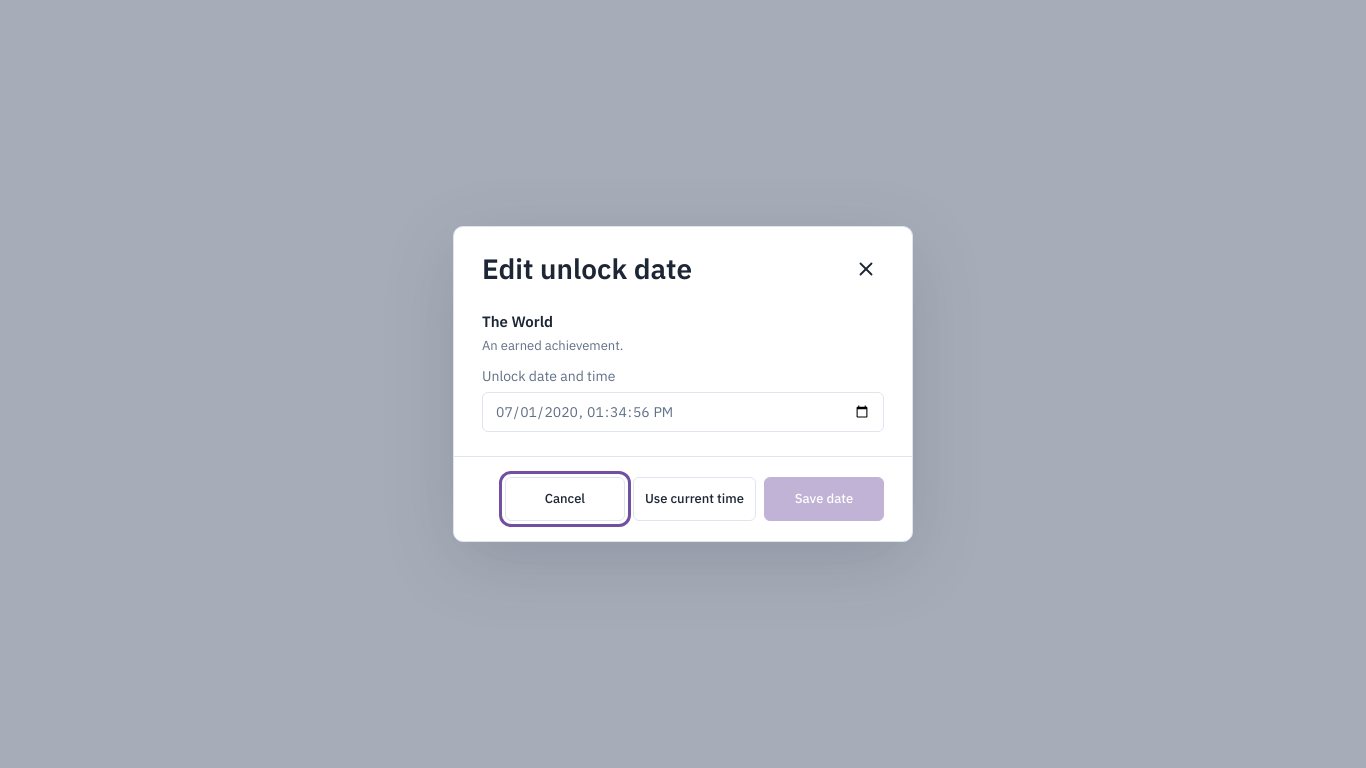
Test case: blocks incomplete, future and nonexistent wall times without changing the saved date
Step 1. Clear the field named "Unlock date for The World" → (683, 412), box [482,392,884,432]
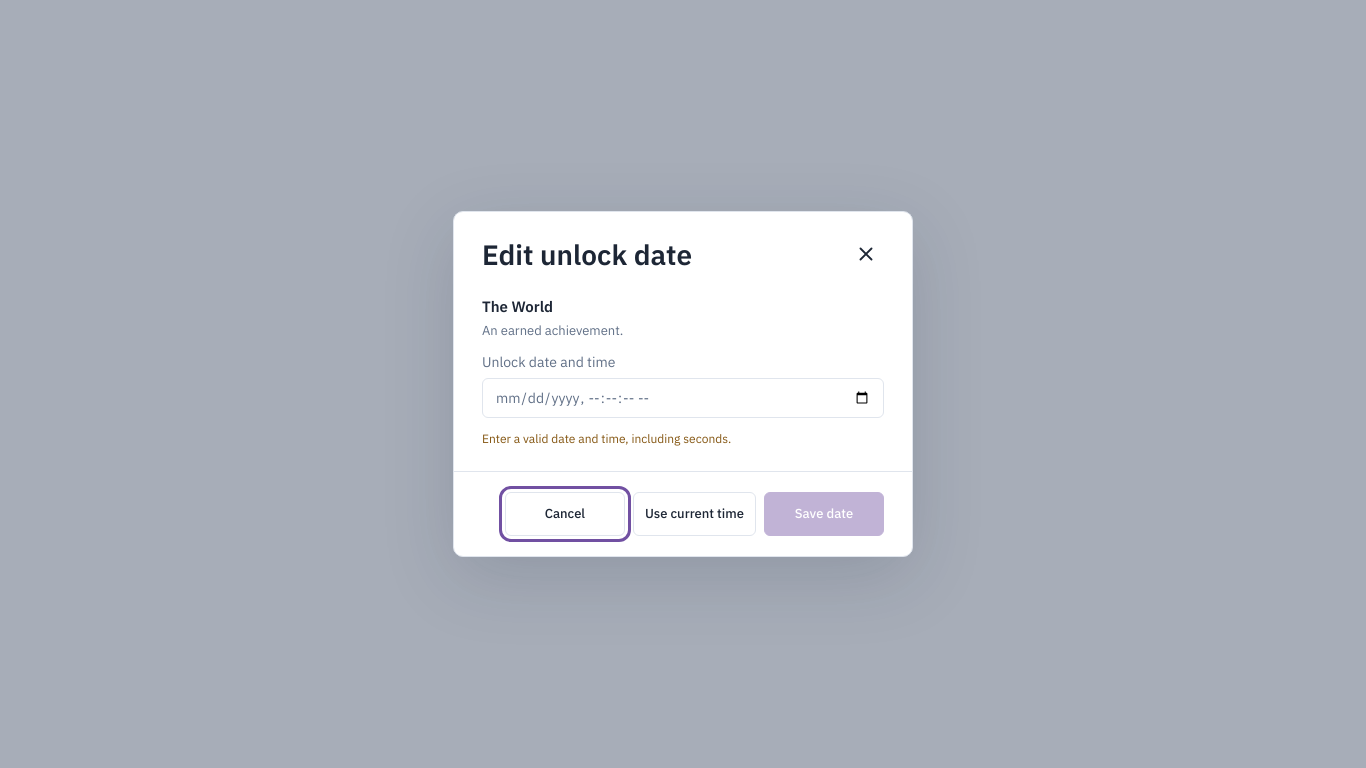
Check: the button "Save date" is disabled, box [764,492,884,536]
Check: the message shows "valid date and time", box [482,430,731,446]
Step 2. Type "2040-08-02T13:14:15" into the field named "Unlock date for The World" → (683, 398), box [482,378,884,418]
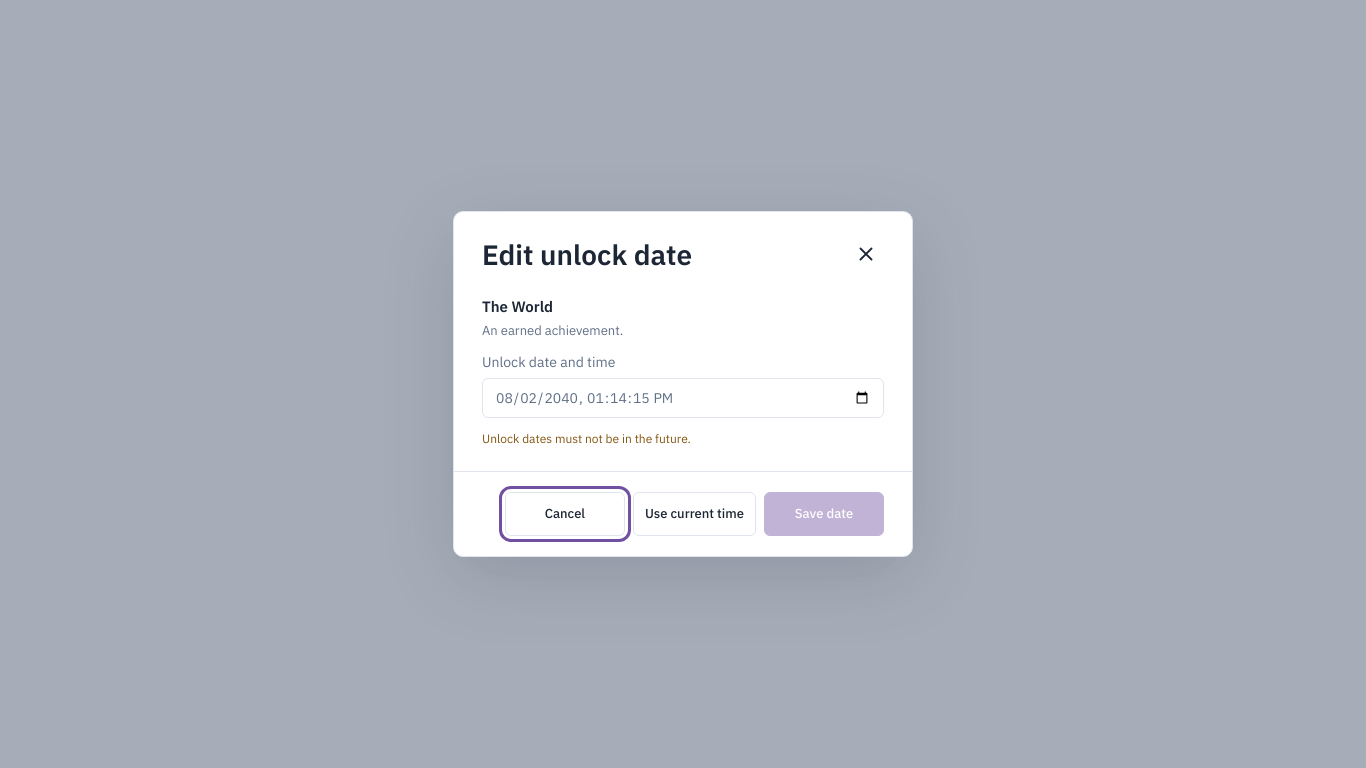
Check: the button "Save date" is disabled, box [764,492,884,536]
Check: the message shows "future", box [482,430,691,446]
Step 3. Replace the text in the field named "Unlock date for The World" with "2026-03-29T01:30:00" → (683, 398), box [482,378,884,418]
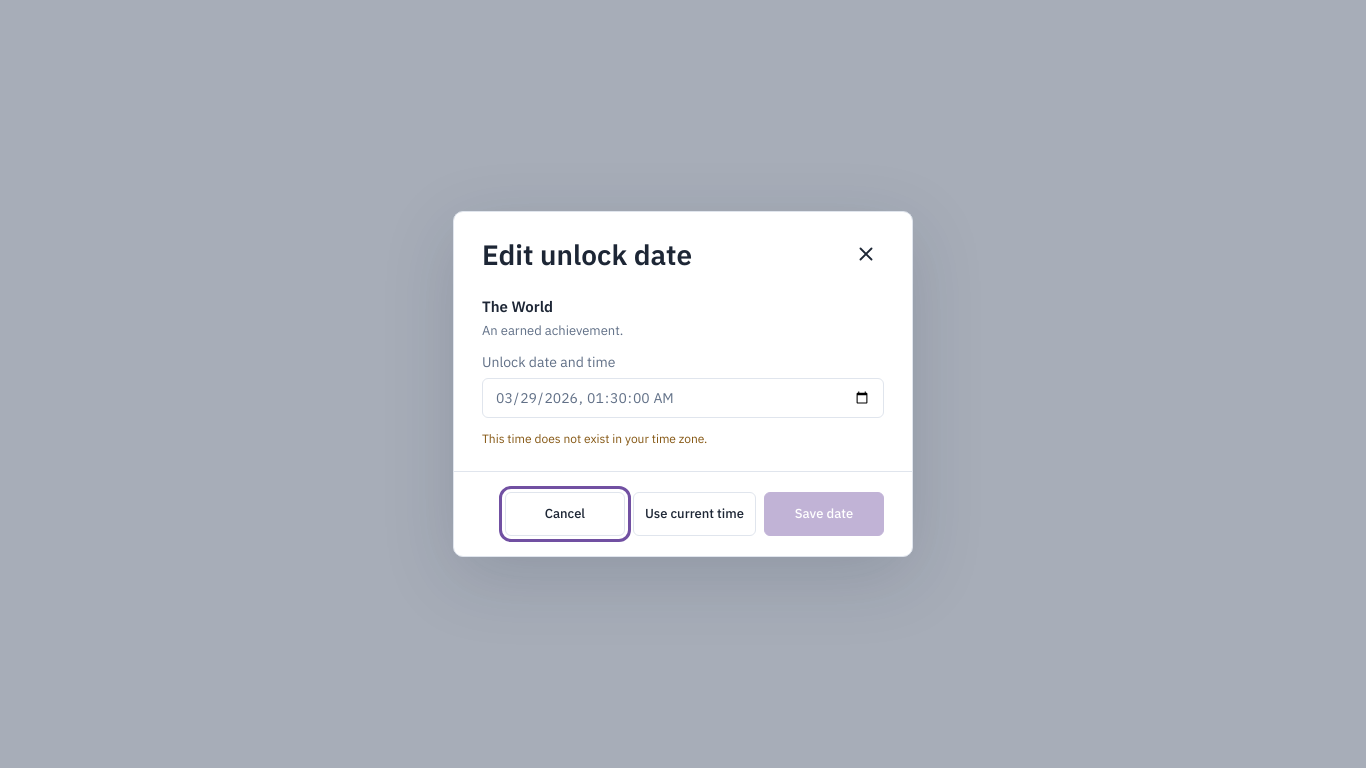
Check: the button "Save date" is disabled, box [764,492,884,536]
Check: the message shows "does not exist", box [482,430,707,446]
